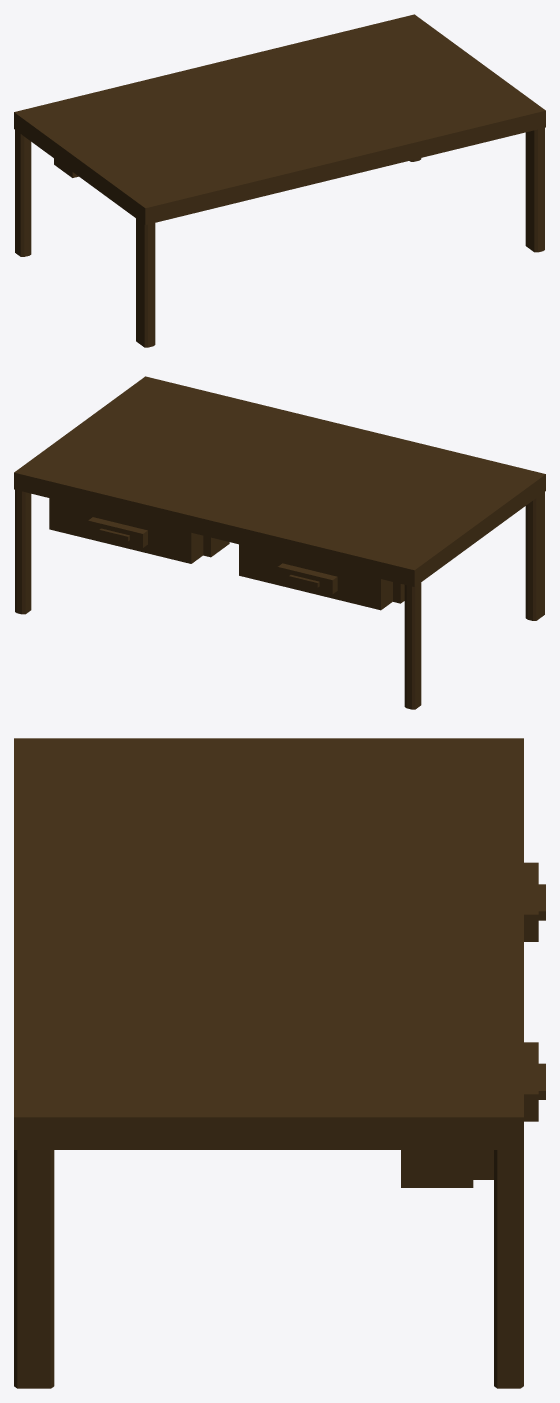
Rendered from Desk.fbx.
3 views of the same model, one above another, from view 1: azimuth 30°, elevation 25°; view 2: azimuth 150°, elevation 25°; view 3: azimuth 270°, elevation 25° (orthographic). The views are drawn at different scales.
Visible parts, largest first — view 1: Cube.012; view 2: Cube.012; view 3: Cube.012.
Part boxes in pixels (x1,y1,x2,y2): Cube.012: [14, 14, 545, 347]; Cube.012: [14, 376, 545, 709]; Cube.012: [14, 738, 545, 1388].
Bounding box in the file's own units: 1828 × 610 × 1084.
